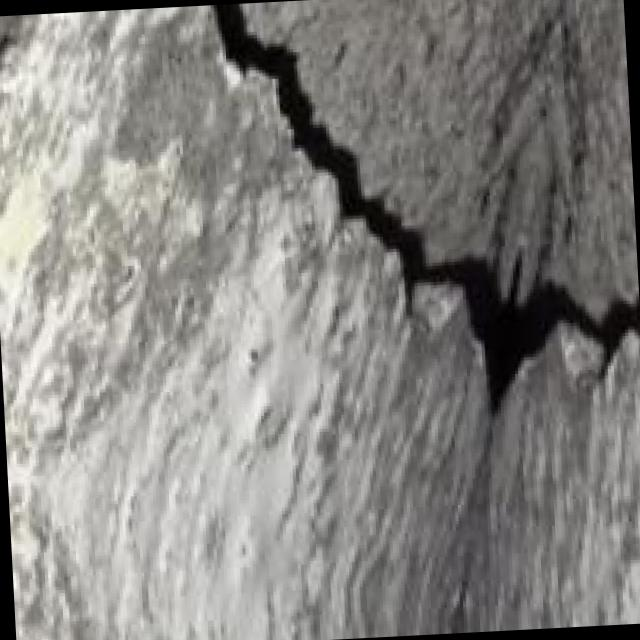crack: (182, 0, 640, 454)
